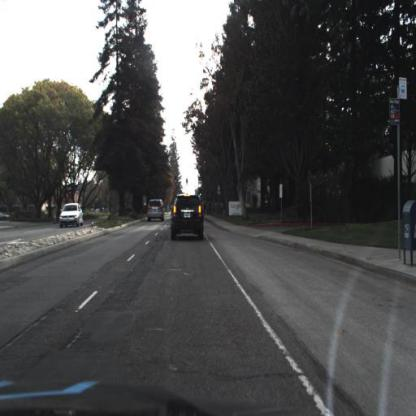car: (170, 193, 204, 240), (58, 200, 85, 229), (58, 202, 85, 228), (146, 198, 166, 225)
